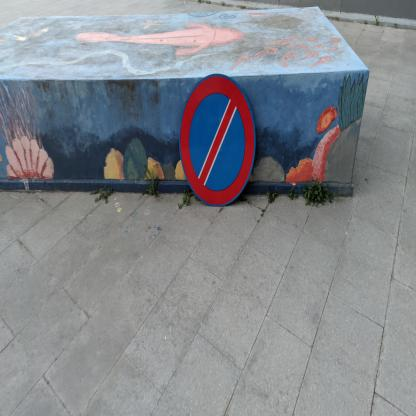No Waiting: (181, 75, 257, 205)
